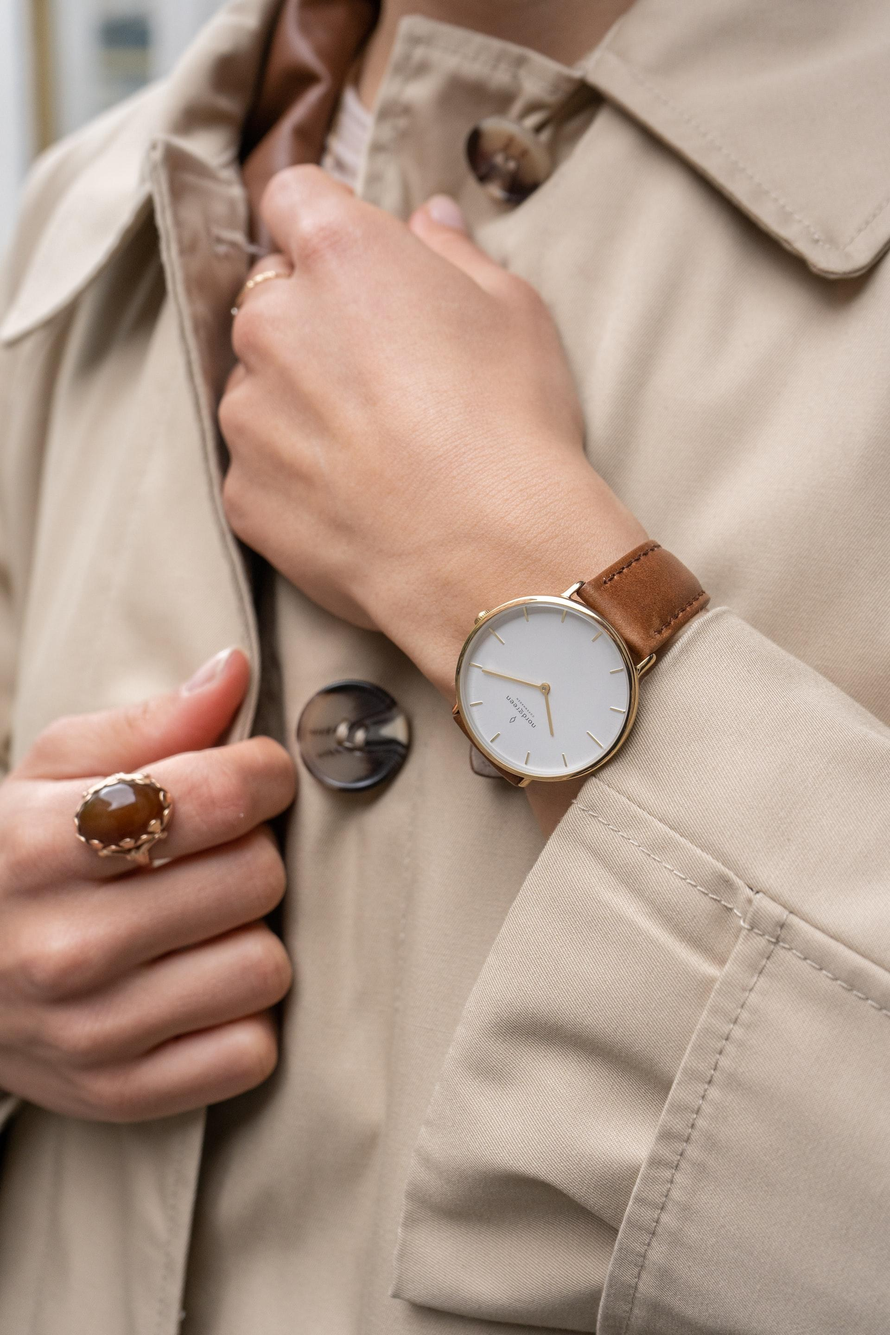watch: (447, 530, 716, 800)
